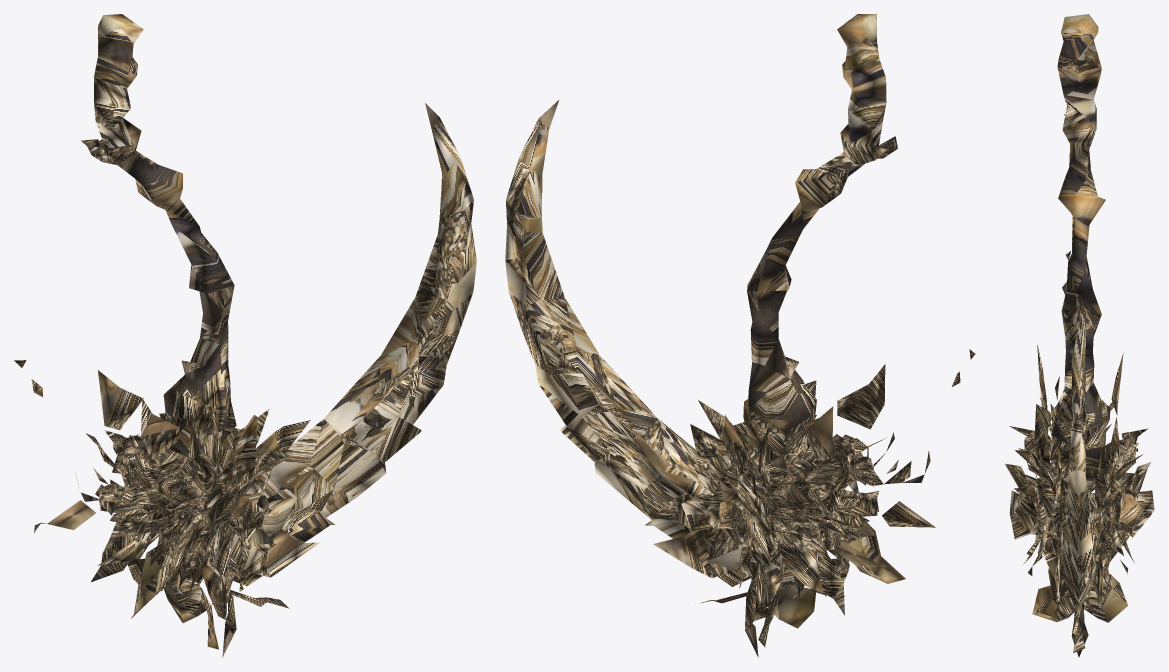
The model's file is 1677_scythe.glb.
3 renders of one model, left to right at view 1: azimuth 30°, elevation 25°; view 2: azimuth 150°, elevation 25°; view 3: azimuth 270°, elevation 25°, orthographic. The views are drawn at different scales.
Parts seen in each view (by area): view 1: Model; view 2: Model; view 3: Model.
Part boxes in pixels (left/top/right/bottom): Model: left=14, top=14, right=476, bottom=657; Model: left=505, top=14, right=975, bottom=657; Model: left=1005, top=14, right=1154, bottom=657.
Size of the model in its own units: 0.7327 by 1 by 0.2289.
1 material, 1 textured.
